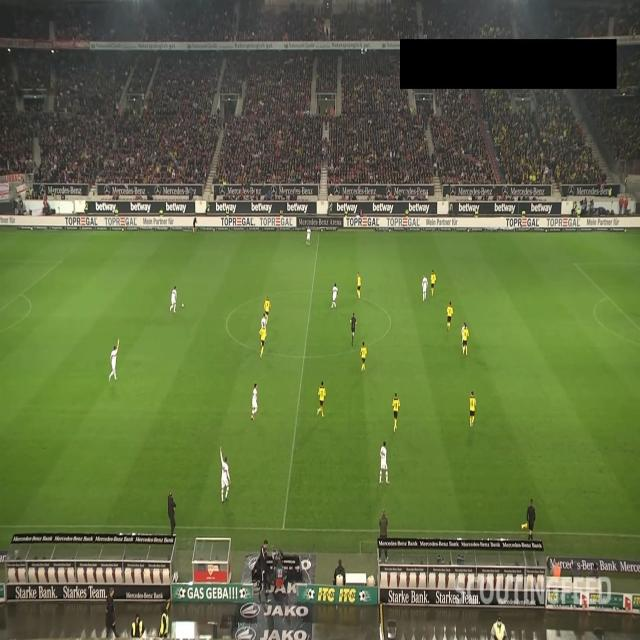ball: (181, 303, 185, 309)
